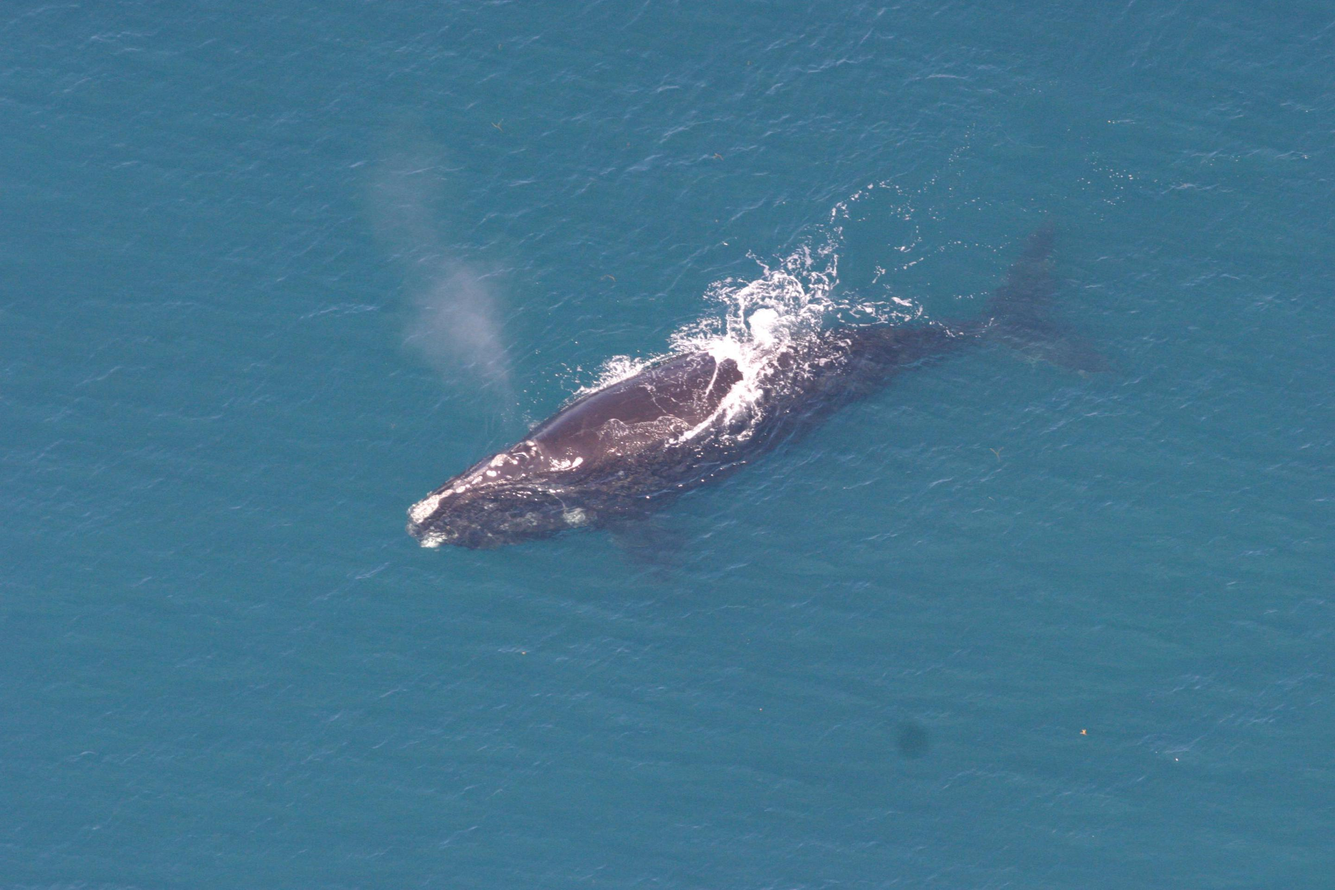whale: (398, 218, 1137, 587)
